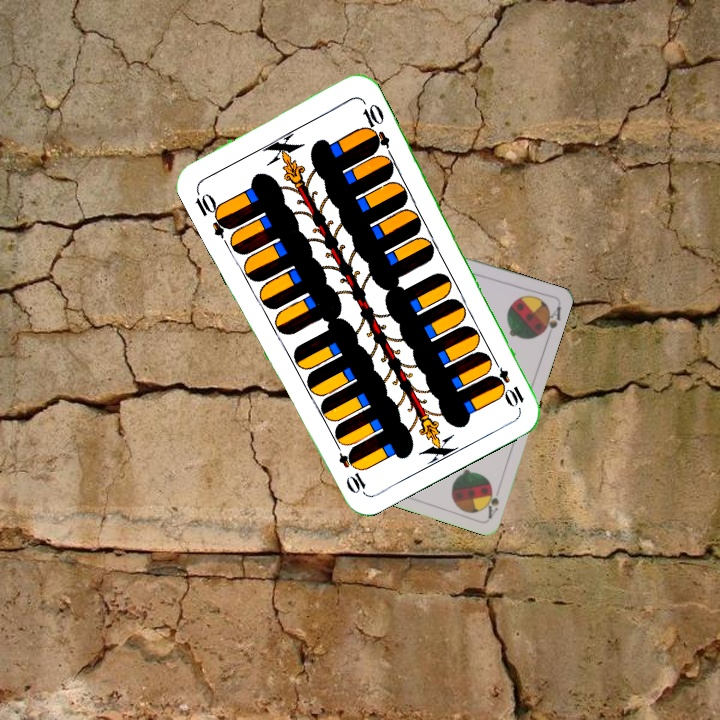E10: (191, 183, 235, 239), (485, 354, 527, 410)
SA: (481, 481, 503, 521)
